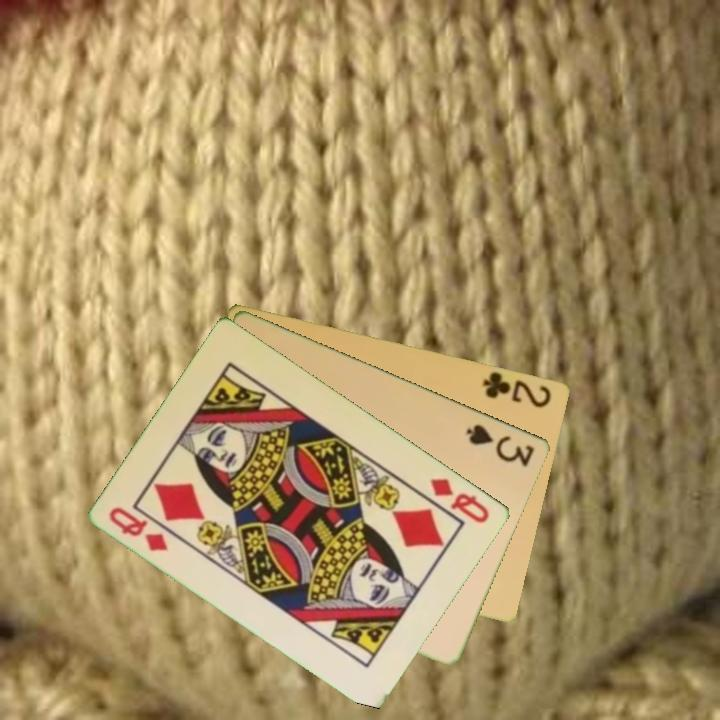2c: (480, 368, 555, 410)
3s: (463, 420, 538, 470)
Qd: (427, 474, 493, 526), (105, 503, 172, 554)
